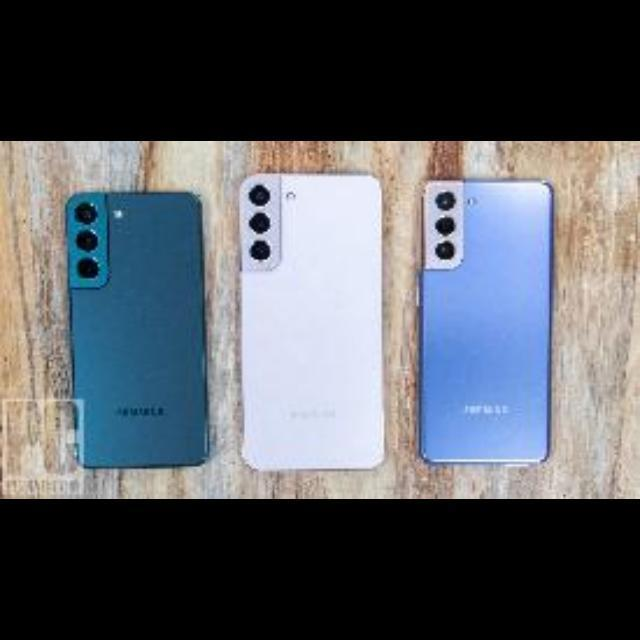PhoneUse: (240, 176, 384, 469), (67, 194, 206, 470), (421, 182, 551, 463)
